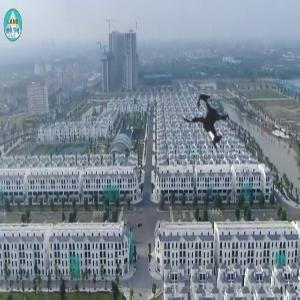drone: (156, 72, 261, 177)
